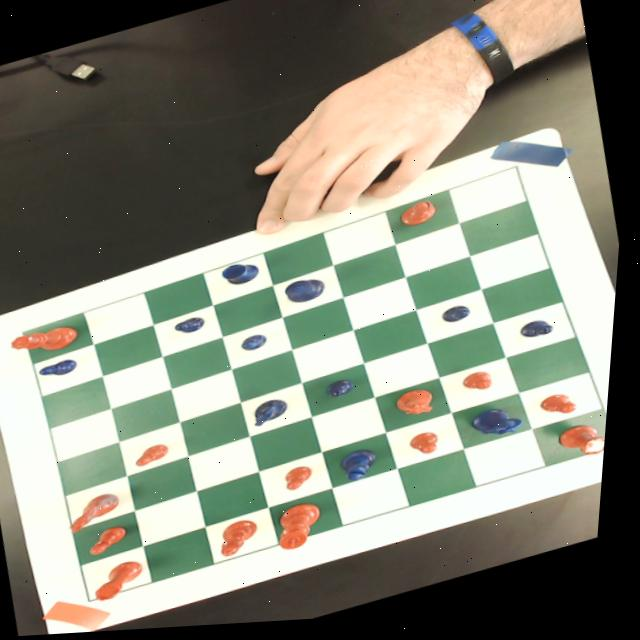B: (343, 450, 389, 489)
K: (286, 276, 334, 310)
N: (474, 406, 534, 450), (256, 398, 296, 430)
P: (522, 321, 561, 347), (44, 356, 86, 380), (443, 307, 478, 330), (329, 379, 361, 404), (177, 315, 213, 337), (244, 334, 274, 356)
R: (223, 260, 266, 291)
b: (222, 519, 270, 561), (400, 202, 444, 234)
k: (279, 501, 336, 556)
n: (71, 488, 136, 536), (398, 389, 444, 425)
p: (93, 524, 139, 558), (543, 395, 586, 427), (138, 442, 179, 469), (464, 372, 502, 401), (412, 433, 448, 463), (288, 467, 322, 495)
q: (13, 320, 87, 361)
r: (98, 559, 156, 604), (561, 422, 614, 470)
